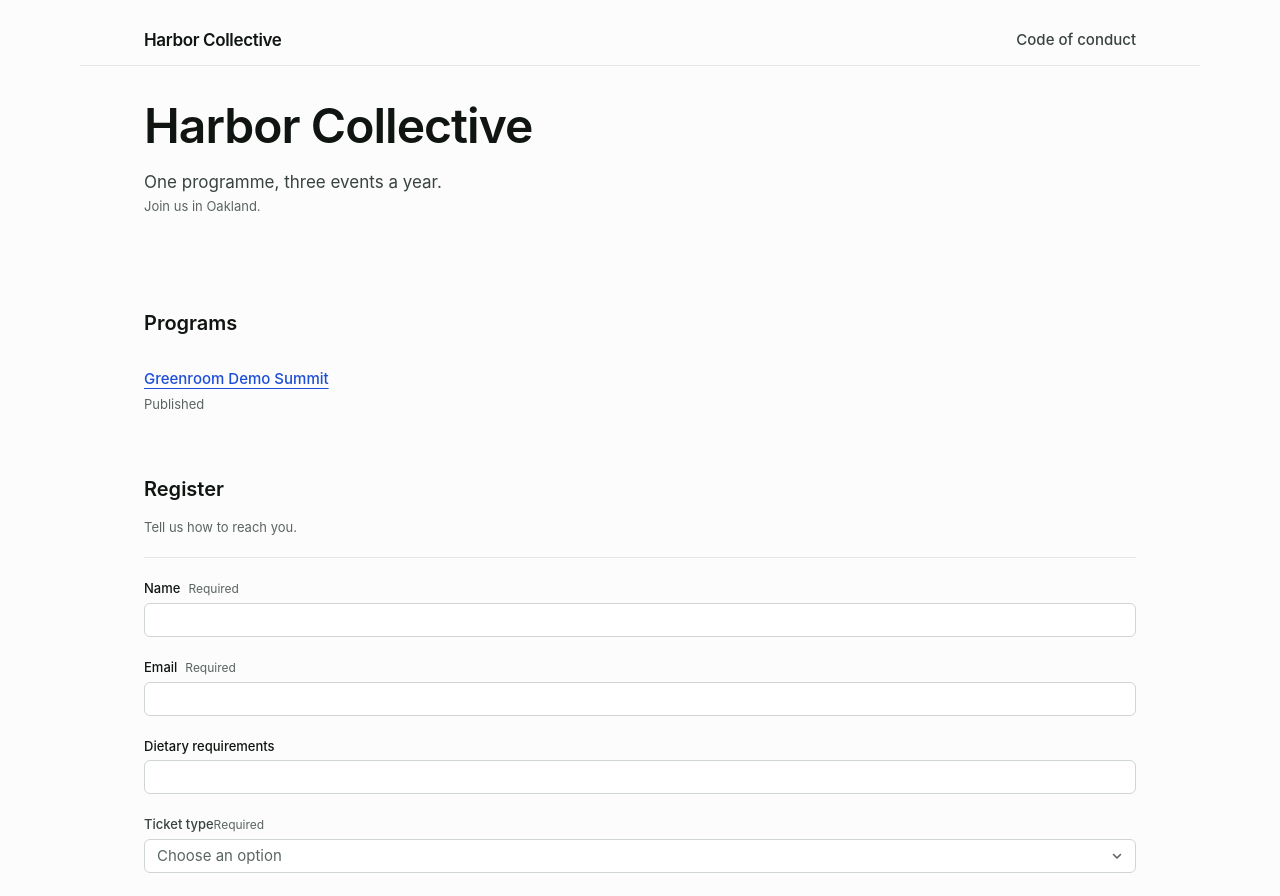
Scenario: puts the server's per-field refusal on the field it names
Expected: the heading "Harbor Collective" is shown, [144, 96, 532, 155]
Type "Pat Attendee" into the field labelled "Name Required" at (640, 620), box [144, 603, 1136, 637]
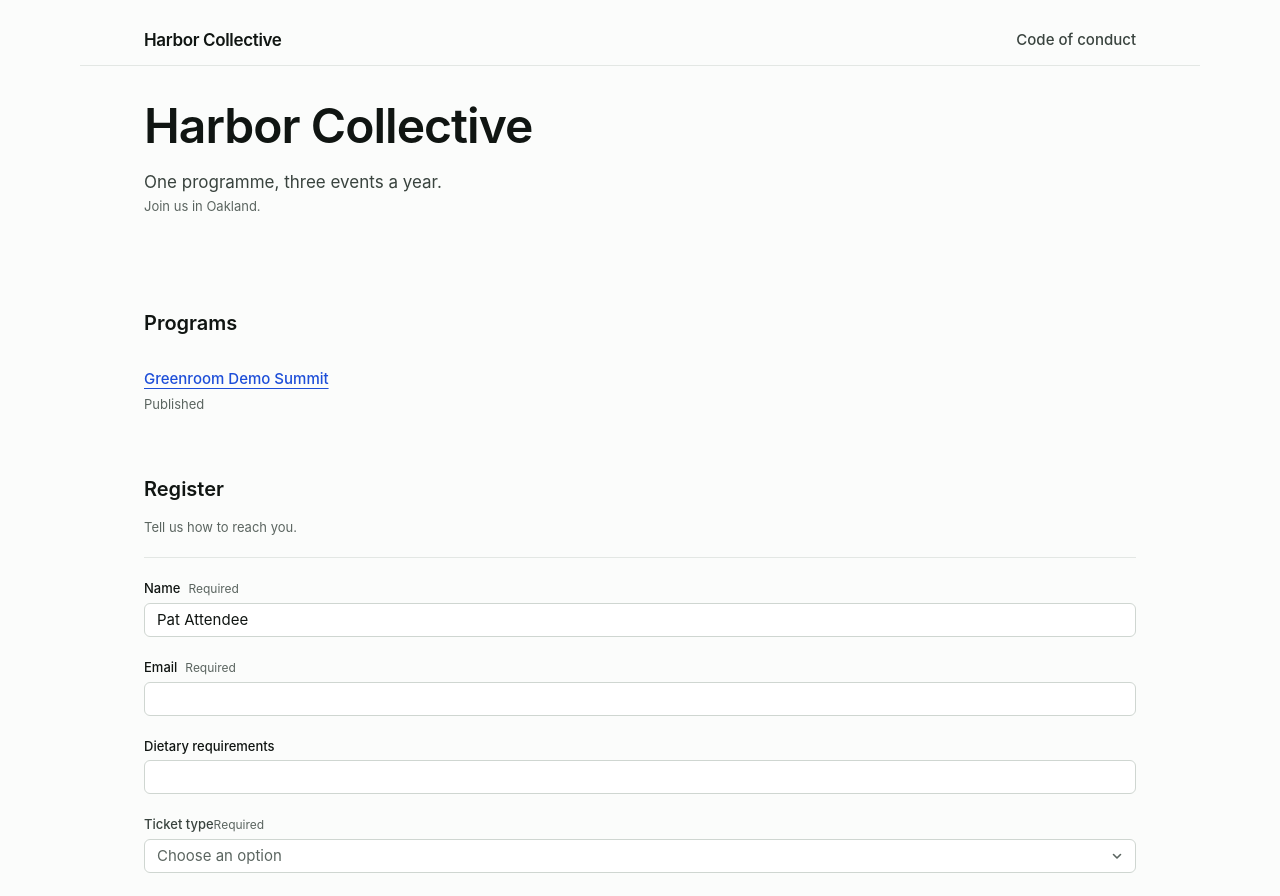
Type "pat@example.com" into the field labelled "Email Required" at (640, 699), box [144, 682, 1136, 716]
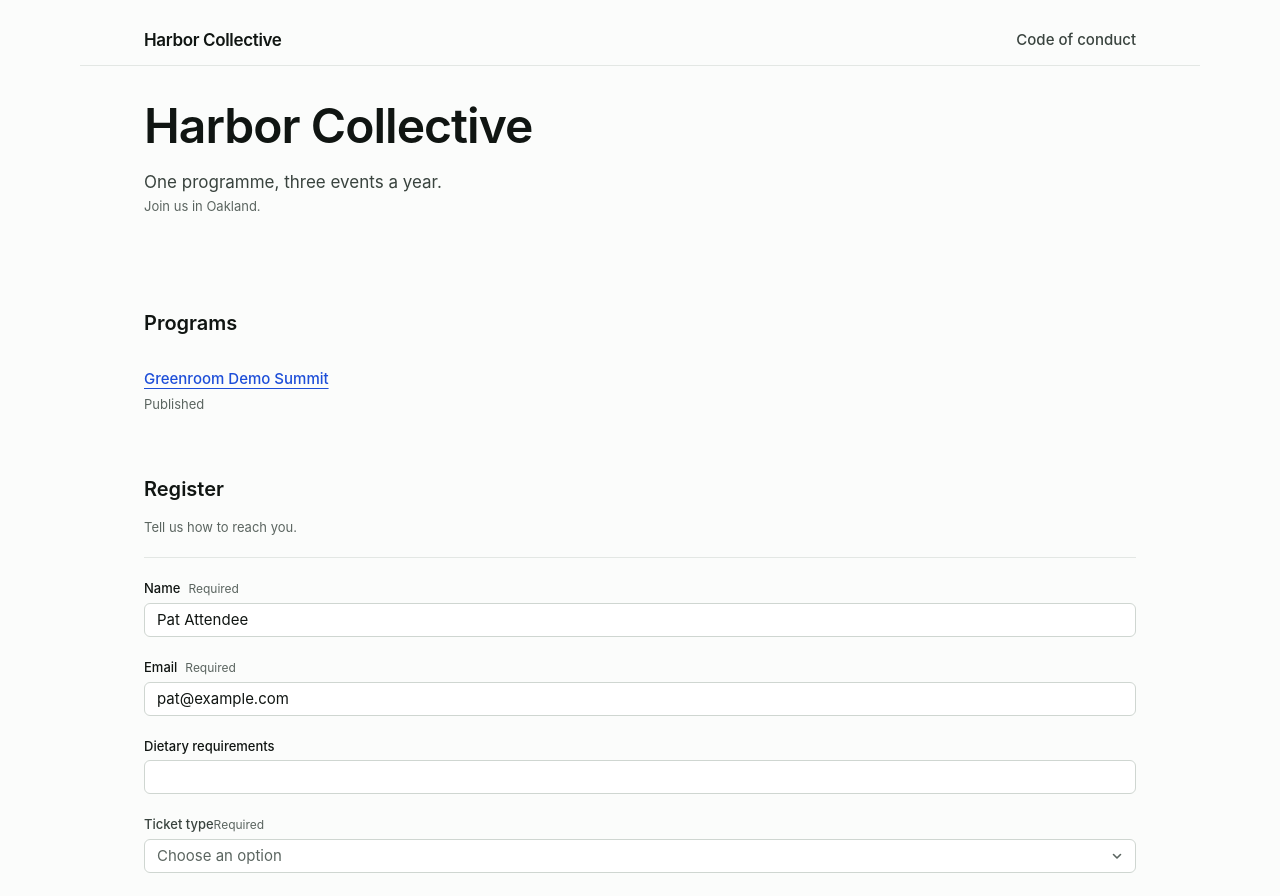
Press ArrowDown in the dropdown named "Ticket type", box [144, 839, 1136, 873]
(page scrolled)
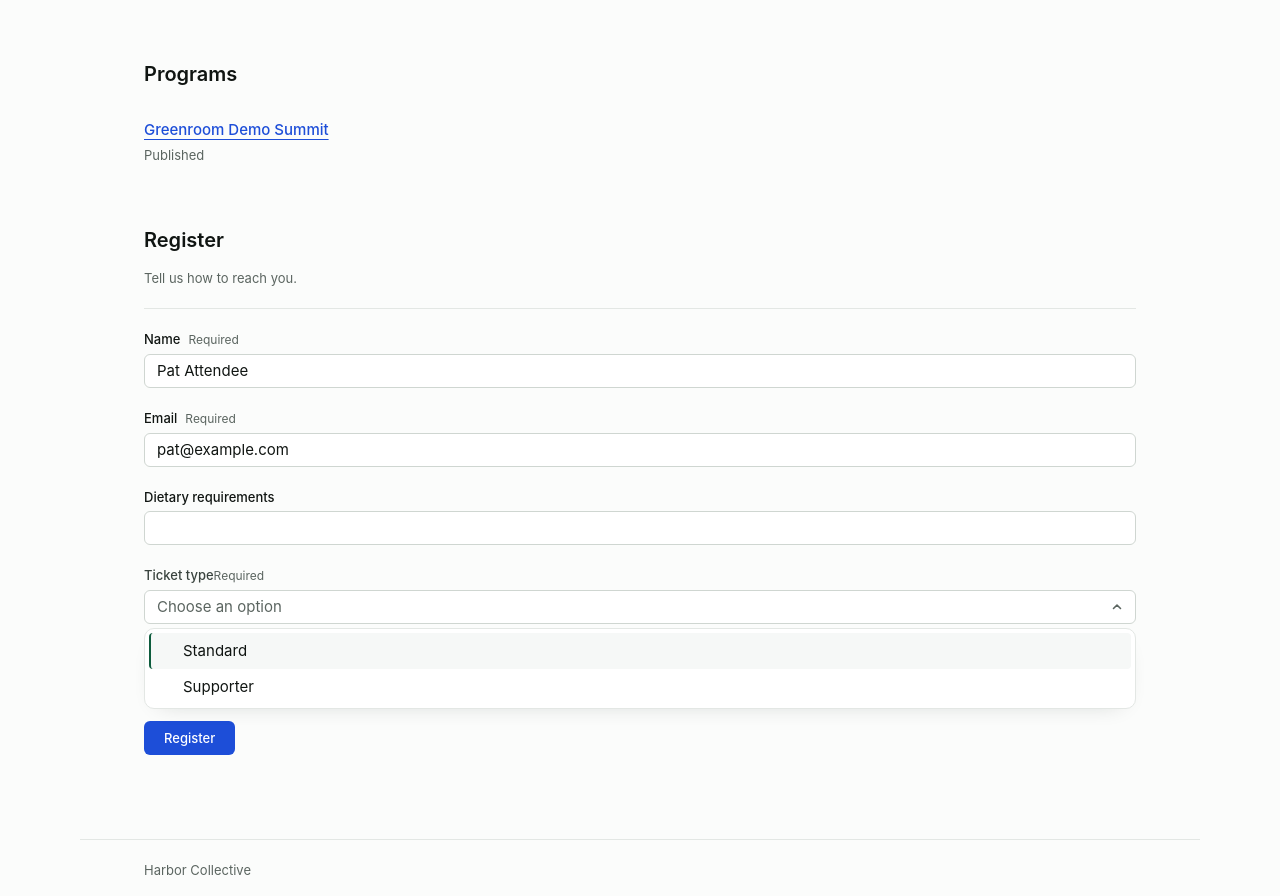
Click the option "Supporter" at (218, 686), box [183, 677, 254, 696]
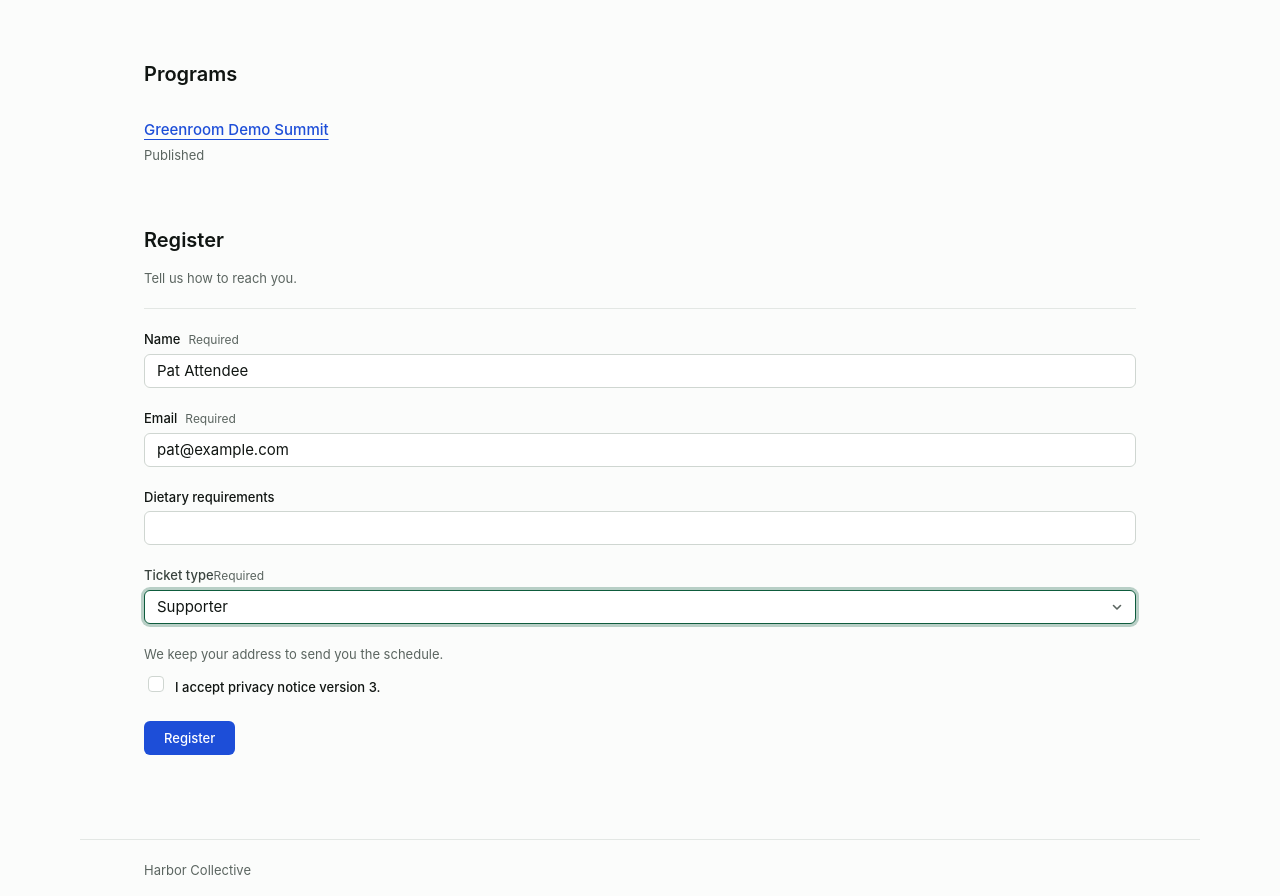
Click the checkbox labelled "I accept privacy notice version 3." at (156, 684), box [148, 676, 164, 692]
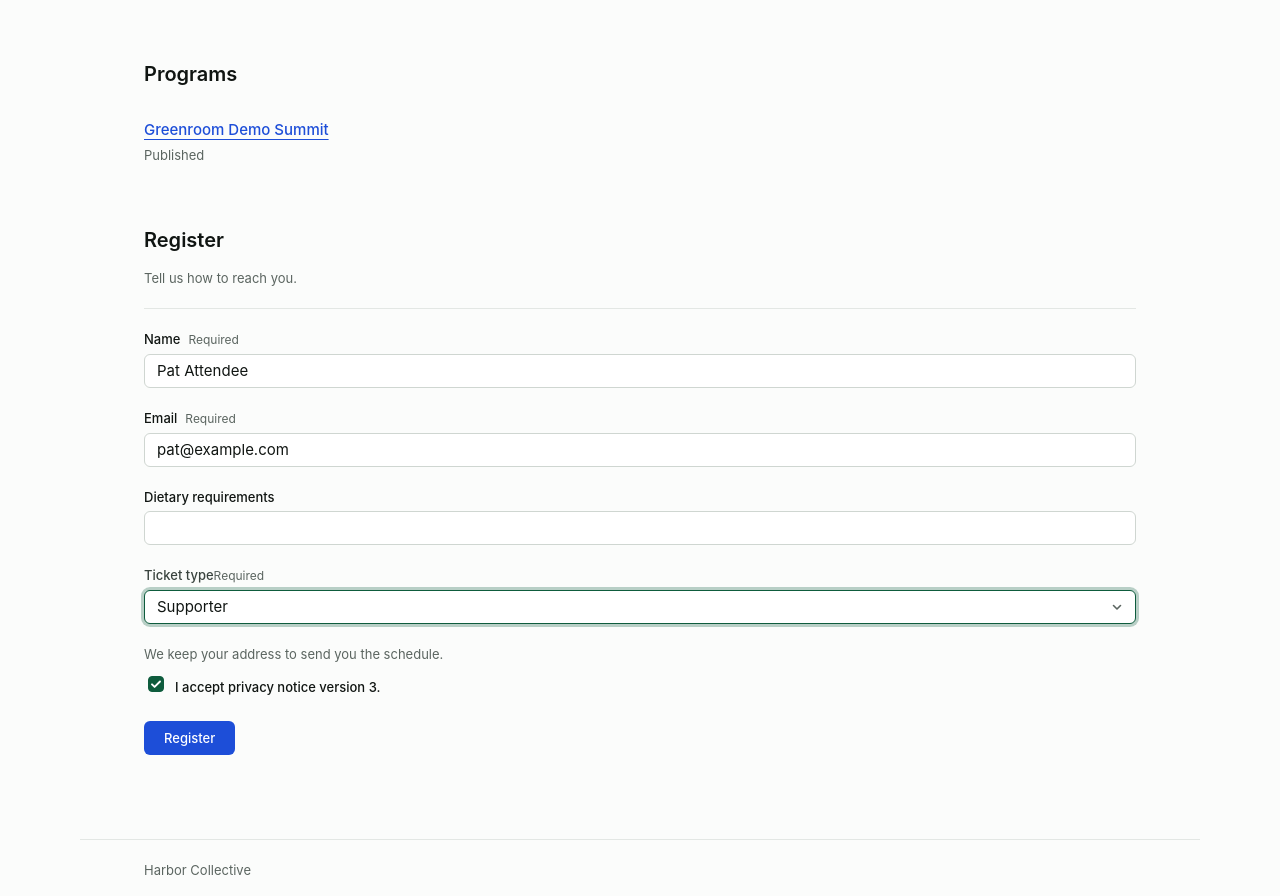
Submit the form from the button "Register", box [144, 721, 235, 755]
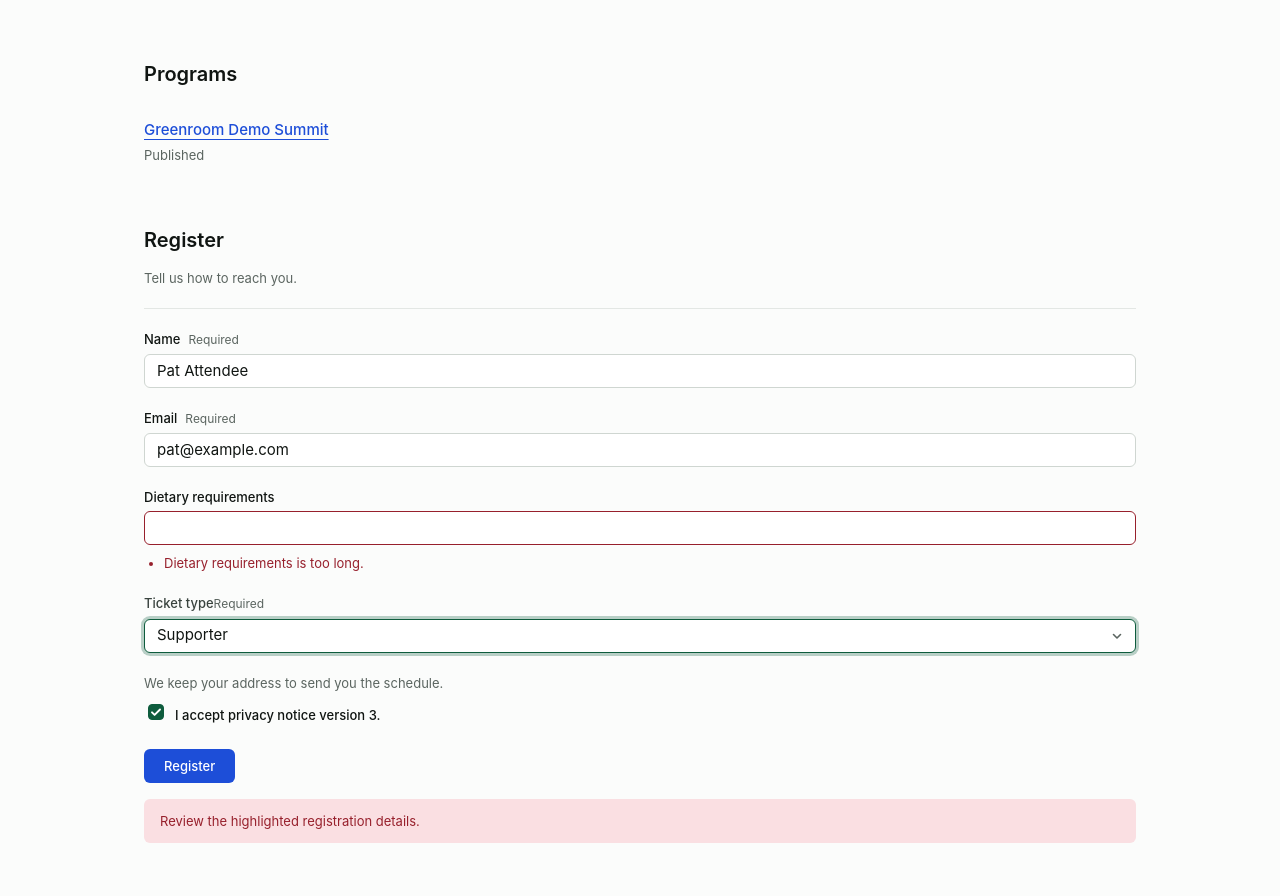
Result: the list item "Dietary requirements is too long." is shown at [164, 555, 364, 571]
Result: the message reads "Review the highlighted registration details." at [160, 813, 420, 829]
